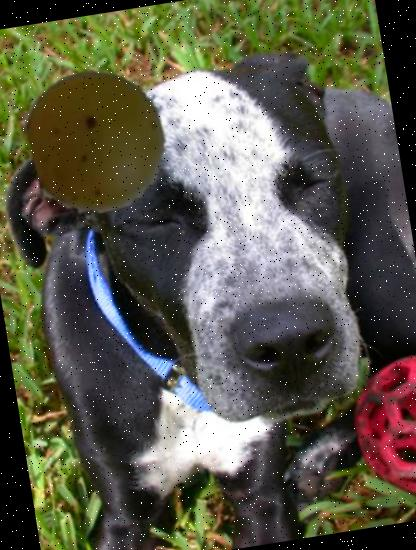Grape: (16, 60, 178, 222)
